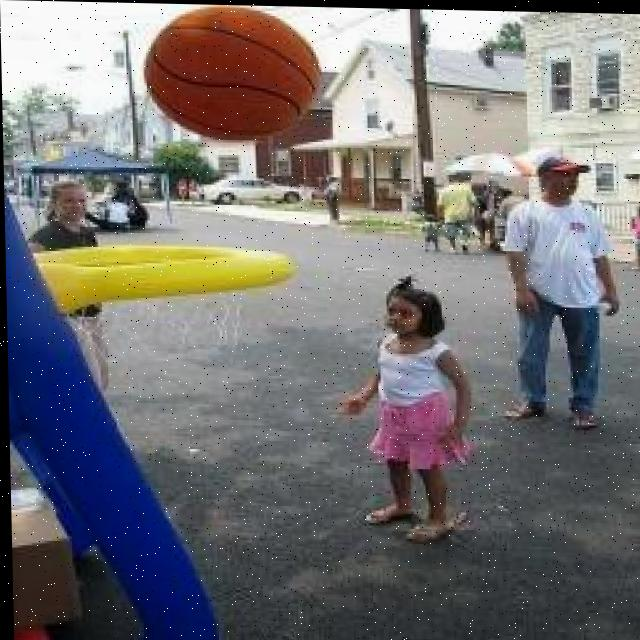basketball: (133, 3, 328, 147)
hoop: (27, 234, 298, 380)
